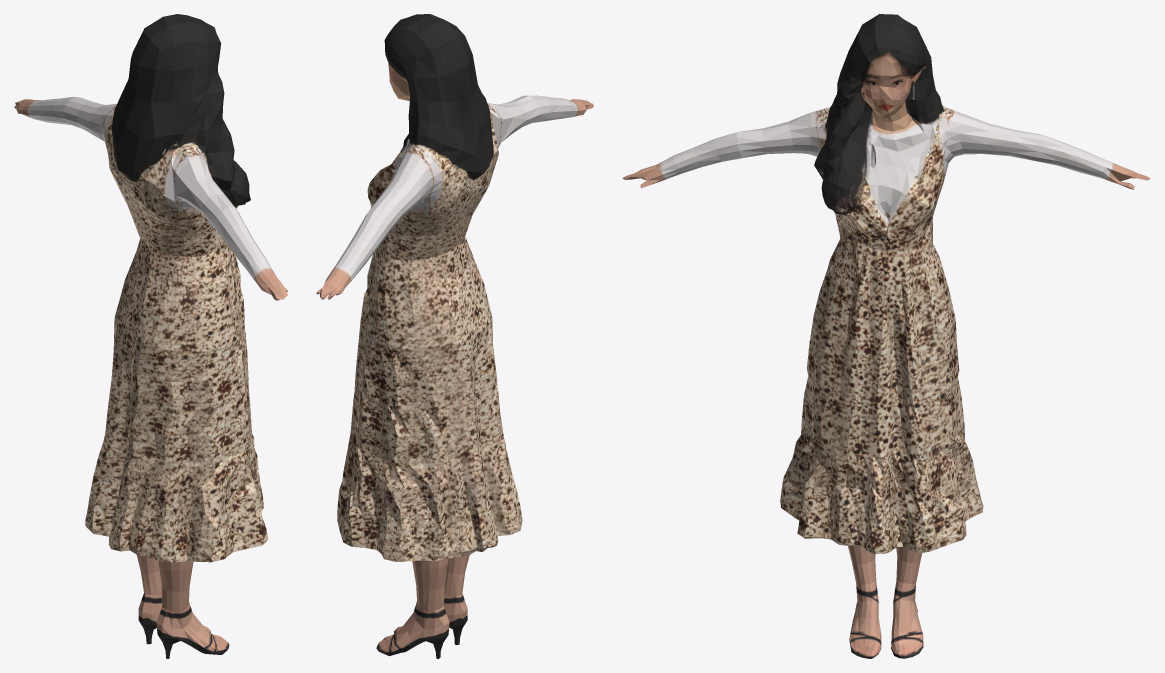
File: 女上班族原始.obj
The picture shows the model from 3 angles, left to right: view 1: azimuth 30°, elevation 25°; view 2: azimuth 150°, elevation 25°; view 3: azimuth 270°, elevation 25°; orthographic projection.
Parts seen in each view (by area): view 1: tripo_node_0b6fcdfa-9adc-4ff2-ac55-4ce8943d6356; view 2: tripo_node_0b6fcdfa-9adc-4ff2-ac55-4ce8943d6356; view 3: tripo_node_0b6fcdfa-9adc-4ff2-ac55-4ce8943d6356.
Boxes of the visible parts, bbox=[...] form: tripo_node_0b6fcdfa-9adc-4ff2-ac55-4ce8943d6356: bbox=[14, 14, 287, 658]; tripo_node_0b6fcdfa-9adc-4ff2-ac55-4ce8943d6356: bbox=[316, 14, 593, 658]; tripo_node_0b6fcdfa-9adc-4ff2-ac55-4ce8943d6356: bbox=[622, 14, 1150, 658].
Size of the model in its own units: 0.264 by 0.9979 by 0.7695.
Materials: 1 (1 with a texture image).
